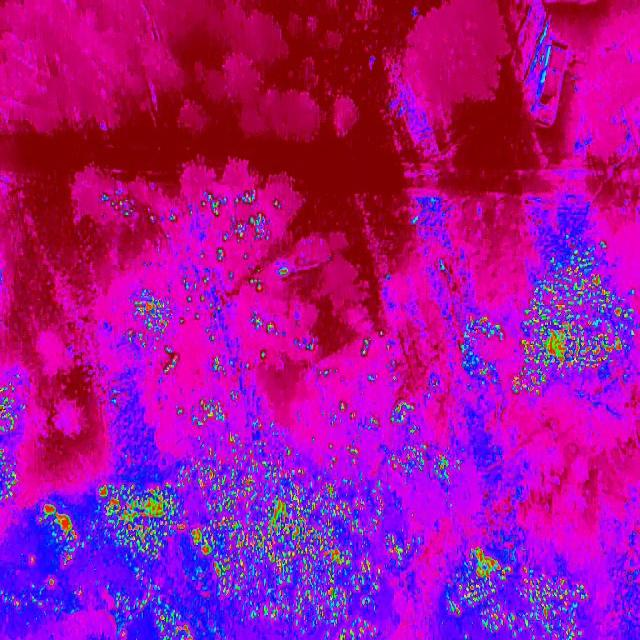fire: (38, 474, 408, 640), (512, 239, 640, 399), (444, 551, 596, 640), (329, 400, 458, 485), (175, 400, 308, 474), (202, 190, 282, 250), (121, 284, 180, 351), (458, 315, 509, 389), (0, 374, 28, 504), (178, 270, 226, 330), (203, 352, 252, 377), (100, 190, 136, 219), (243, 310, 279, 338), (358, 331, 374, 361), (294, 332, 314, 356)
